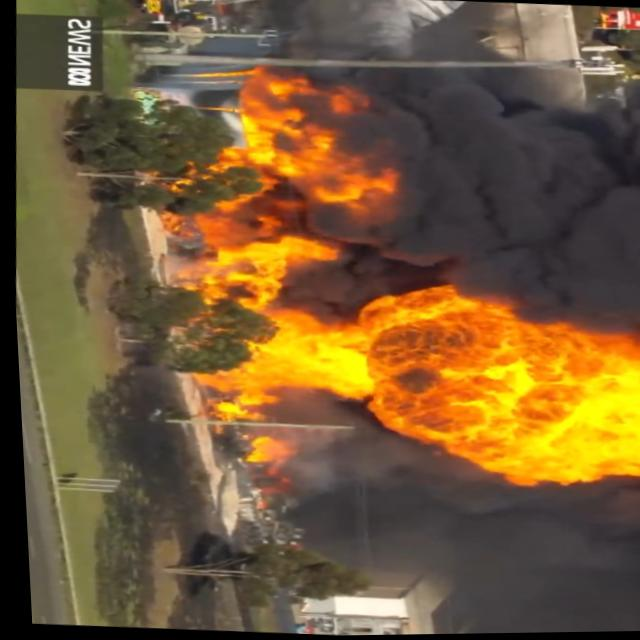Fire: (124, 56, 626, 494), (594, 319, 640, 485)
